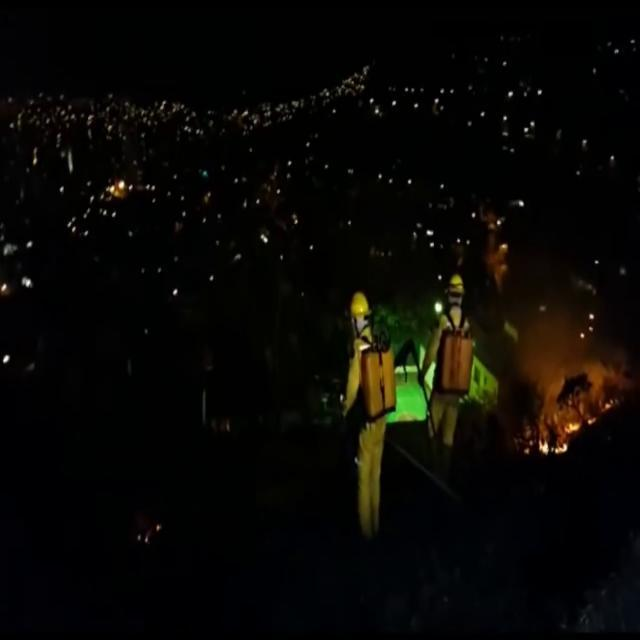Fire: (540, 435, 568, 457), (564, 419, 580, 434), (604, 398, 614, 408), (590, 416, 596, 424)
